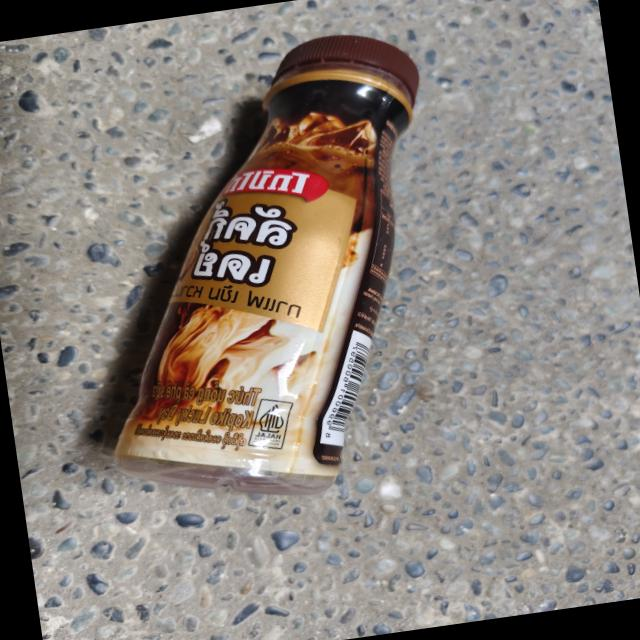Bottle: (115, 35, 418, 495)
